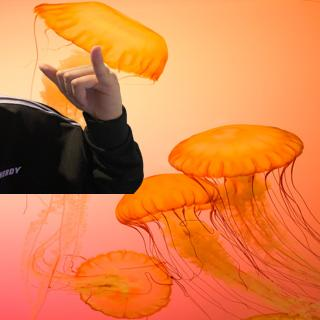HAVE: (36, 40, 129, 131)
